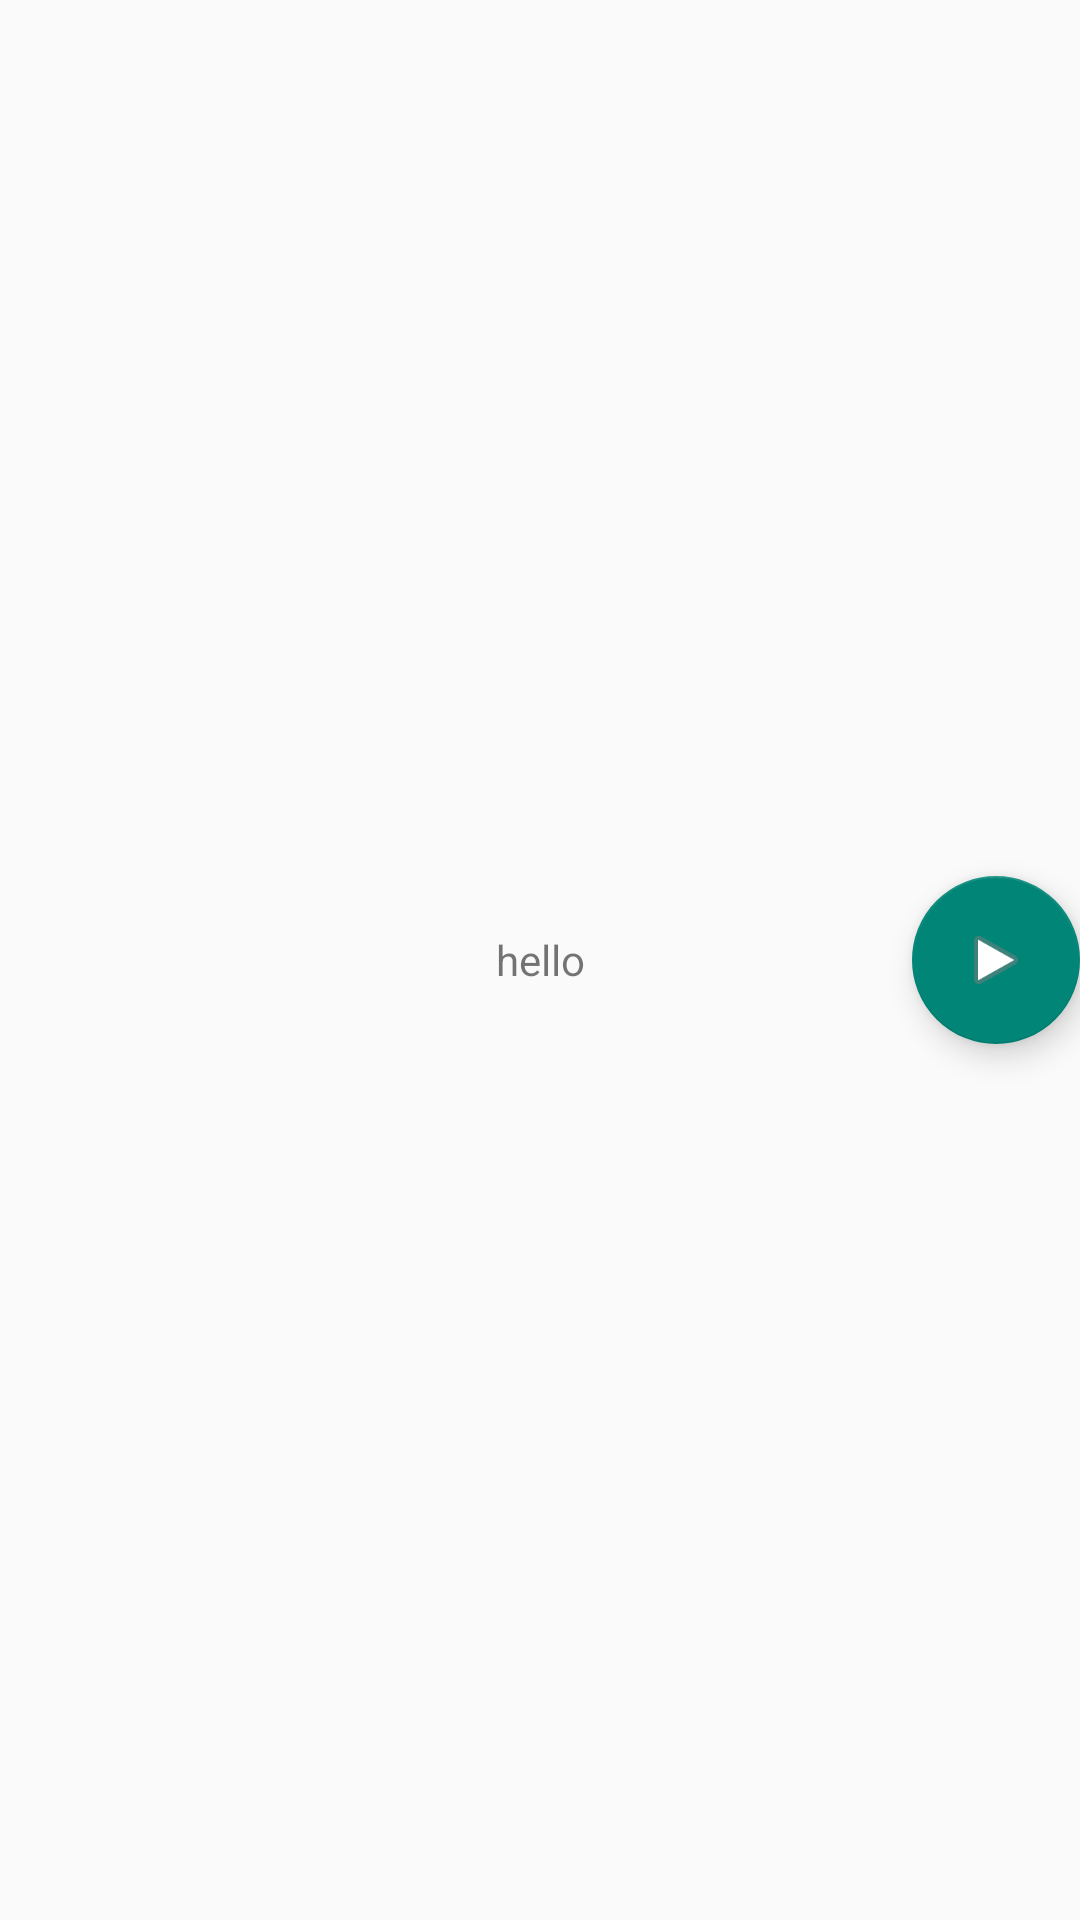

Where to tap for icons on this 1080×1920 app screen, as point (x, y):
play: point (996, 960)
